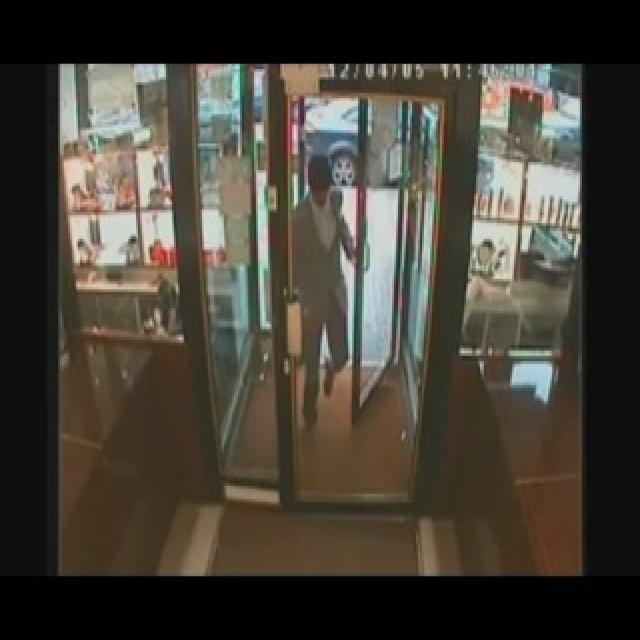thief: (288, 150, 350, 419)
